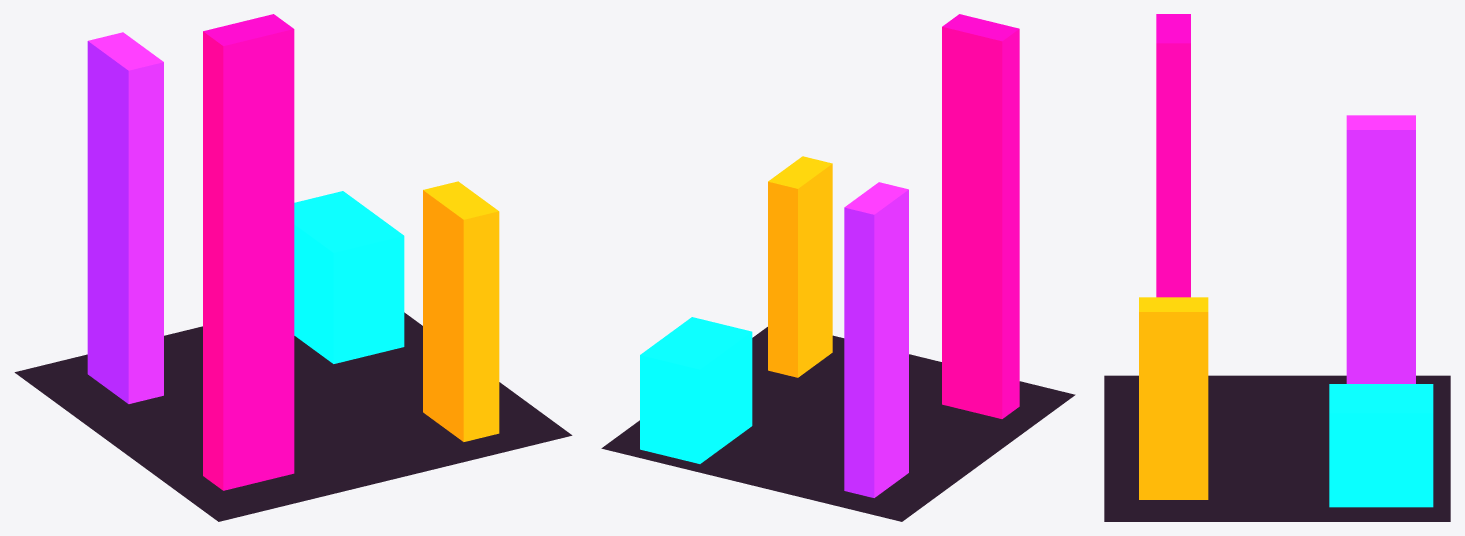
The model's file is decoration-buildings-1.glb.
3 renders of one model, left to right at view 1: azimuth 30°, elevation 25°; view 2: azimuth 150°, elevation 25°; view 3: azimuth 270°, elevation 25°, orthographic. The views are drawn at different scales.
Parts seen in each view (by area): view 1: Building 4, Building 1 Floor, Building 3, Building 2, Building 1; view 2: Building 4, Building 1 Floor, Building 3, Building 1, Building 2; view 3: Building 1 Floor, Building 3, Building 2, Building 1, Building 4.
Boxes of the visible parts, <box> form: Building 4: <box>203,14,294,490</box>; Building 1 Floor: <box>14,312,572,521</box>; Building 3: <box>87,32,163,403</box>; Building 2: <box>423,181,499,441</box>; Building 1: <box>294,191,404,363</box>; Building 4: <box>942,14,1019,418</box>; Building 1 Floor: <box>601,327,1075,521</box>; Building 3: <box>844,182,908,497</box>; Building 1: <box>640,317,752,463</box>; Building 2: <box>768,156,832,377</box>; Building 1 Floor: <box>1104,375,1450,521</box>; Building 3: <box>1346,115,1415,383</box>; Building 2: <box>1139,297,1208,499</box>; Building 1: <box>1329,384,1433,507</box>; Building 4: <box>1156,14,1190,297</box>.
Size of the model in its own units: 10 by 12 by 10.
